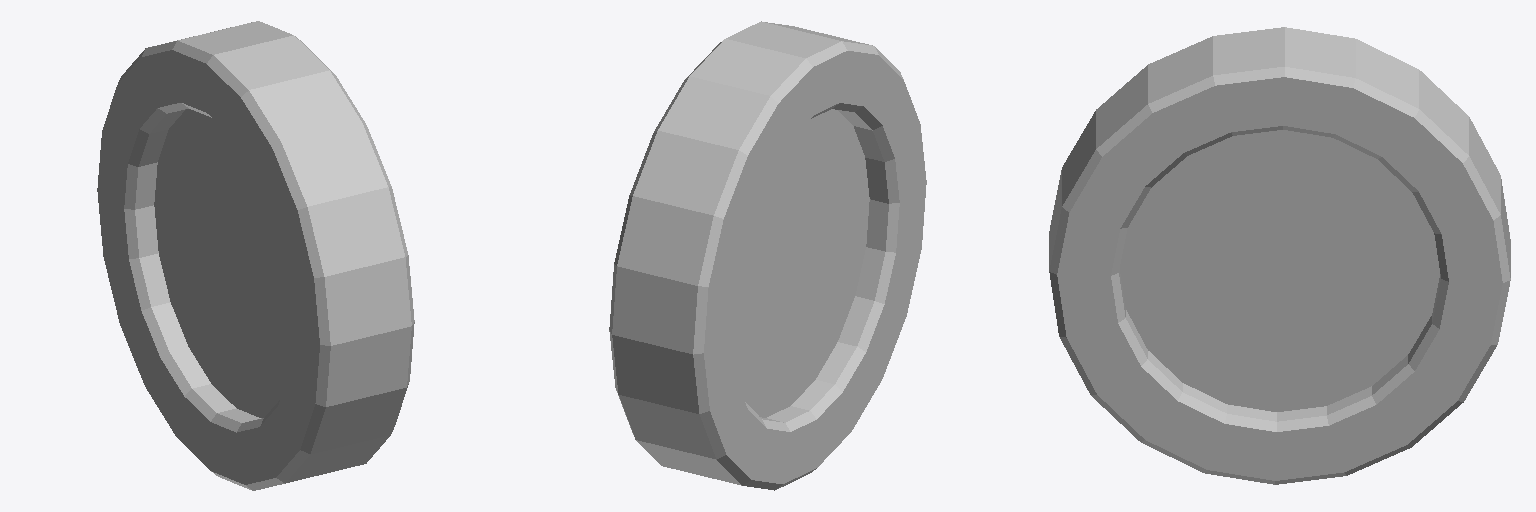
File: coin.obj
3 views of the same model, side by side, from view 1: azimuth 30°, elevation 25°; view 2: azimuth 150°, elevation 25°; view 3: azimuth 270°, elevation 25° (orthographic).
Parts seen in each view (by area): view 1: Coin_Material_0; view 2: Coin_Material_0; view 3: Coin_Material_0.
Boxes of the visible parts, box(x1,y1,x2,y2) form: Coin_Material_0: box(97, 21, 414, 490); Coin_Material_0: box(609, 21, 926, 490); Coin_Material_0: box(1049, 27, 1510, 484).
Size of the model in its own units: 0.1891 by 0.7998 by 0.7998.